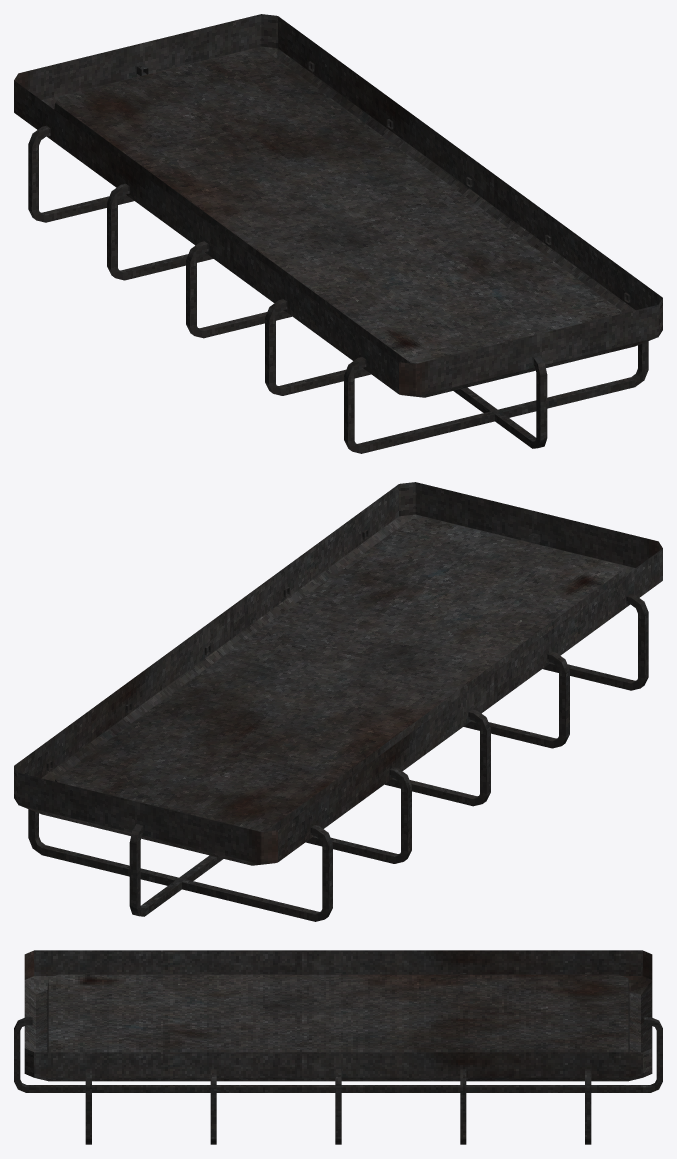
Rendered from ceiling_lamp_2_off.glb.
3 renders of one model, top to bottom at view 1: azimuth 30°, elevation 25°; view 2: azimuth 150°, elevation 25°; view 3: azimuth 270°, elevation 25°, orthographic. The views are drawn at different scales.
Visible parts, largest first — view 1: ceiling_lamp_2_off; view 2: ceiling_lamp_2_off; view 3: ceiling_lamp_2_off.
Part boxes in pixels (bbox=[...]): ceiling_lamp_2_off: bbox=[14, 14, 662, 453]; ceiling_lamp_2_off: bbox=[14, 482, 662, 921]; ceiling_lamp_2_off: bbox=[14, 950, 662, 1144].
Bounding box in the file's own units: 0.44 × 0.16 × 1.04.
Materials: 3 (3 with a texture image).
